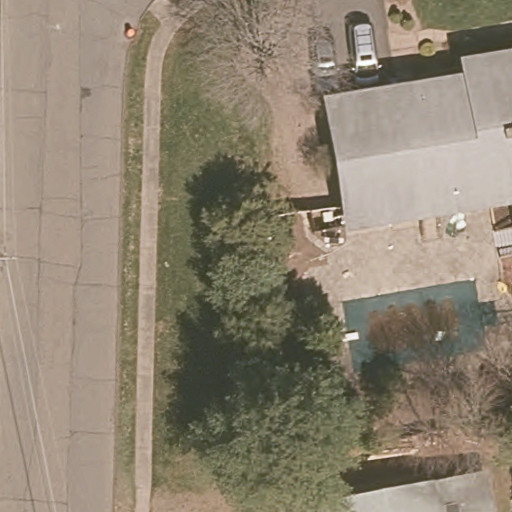DT: (1, 248, 17, 272)
